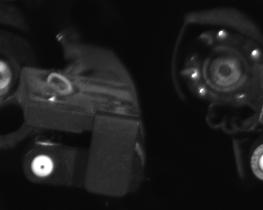fiber: (27, 148, 60, 182)
